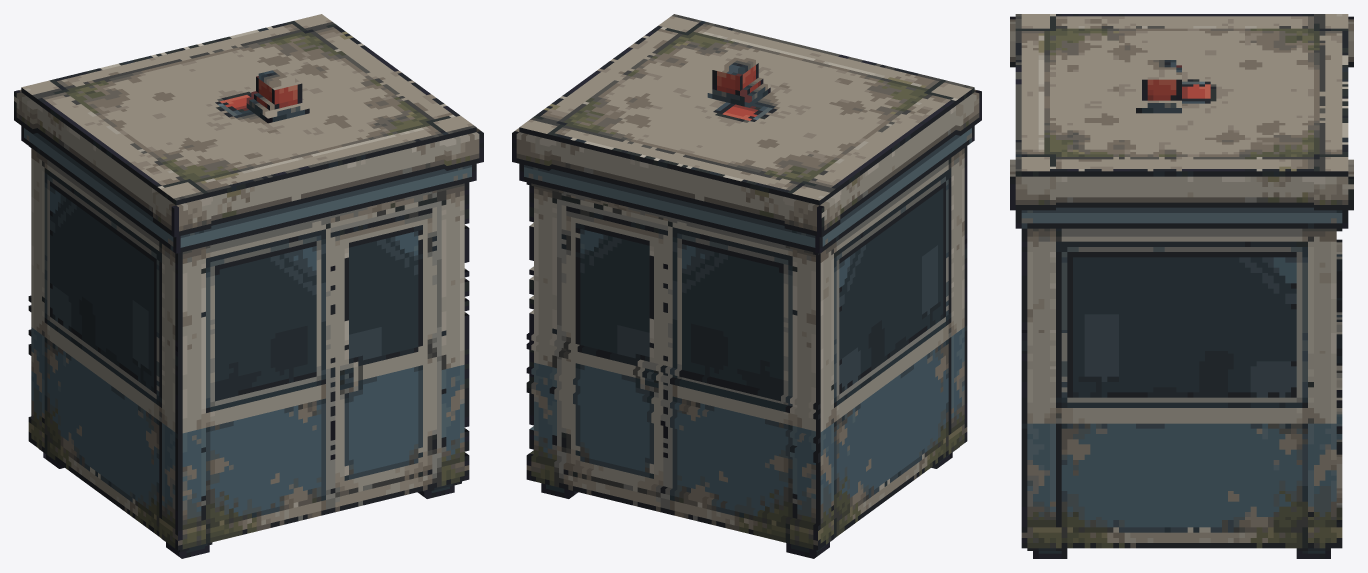
Rendered from city_police_box.glb.
3 views of the same model, side by side, from view 1: azimuth 30°, elevation 25°; view 2: azimuth 150°, elevation 25°; view 3: azimuth 270°, elevation 25° (orthographic). The views are drawn at different scales.
Visible parts, largest first — view 1: city_police_box; view 2: city_police_box; view 3: city_police_box.
Boxes of the visible parts, box(x1,y1,x2,y2) form: city_police_box: box(14, 14, 483, 558); city_police_box: box(512, 14, 981, 558); city_police_box: box(1010, 14, 1353, 558).
Size of the model in its own units: 2.09 by 2.59 by 1.88.
